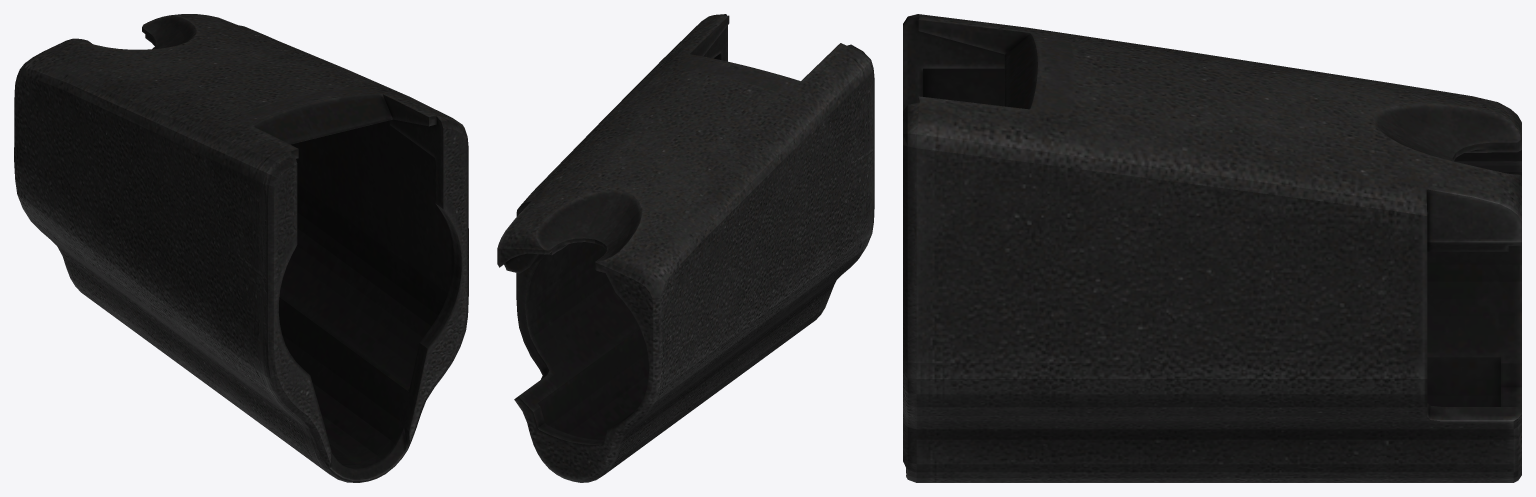
3 views of the same model, side by side, from view 1: azimuth 30°, elevation 25°; view 2: azimuth 150°, elevation 25°; view 3: azimuth 270°, elevation 25° (orthographic). The views are drawn at different scales.
Parts seen in each view (by area): view 1: TW_6565bb7eb4b12a56eb04b084_PZ_Import; view 2: TW_6565bb7eb4b12a56eb04b084_PZ_Import; view 3: TW_6565bb7eb4b12a56eb04b084_PZ_Import.
Boxes of the visible parts, x1,y1,x2,y2 form: TW_6565bb7eb4b12a56eb04b084_PZ_Import: (14,14,468,482); TW_6565bb7eb4b12a56eb04b084_PZ_Import: (497,14,874,482); TW_6565bb7eb4b12a56eb04b084_PZ_Import: (903,14,1521,482).
Bounding box in the file's own units: 0.0253 × 0.0551 × 0.0411.
Materials: 1 (1 with a texture image).
